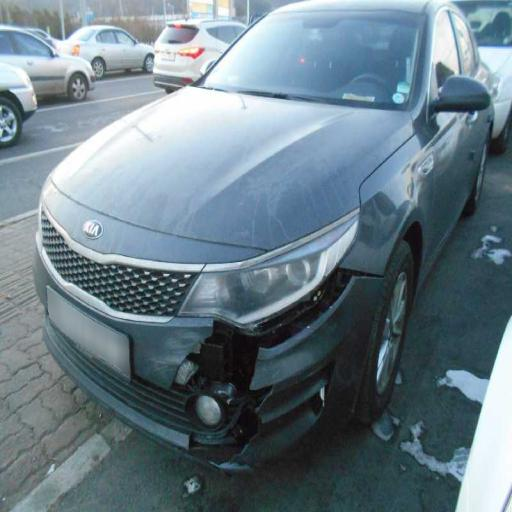broken: (177, 305, 305, 472)
scratch: (210, 168, 361, 236)
